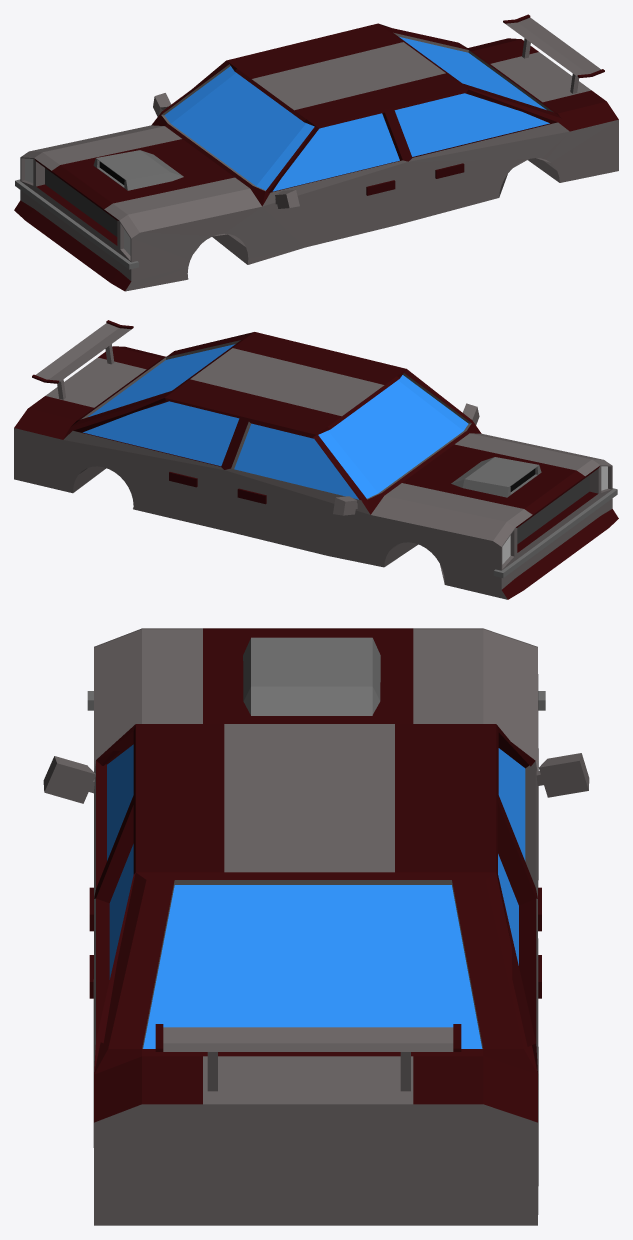
Rendered from car2.obj.
3 views of the same model, one above another, from view 1: azimuth 30°, elevation 25°; view 2: azimuth 150°, elevation 25°; view 3: azimuth 270°, elevation 25° (orthographic). The views are drawn at different scales.
Parts seen in each view (by area): view 1: Cube, Cube.009, Plane.001, Cube.001, Cube.008; view 2: Cube, Cube.009, Plane.001, Cube.001, Cube.010; view 3: Cube, Cube.009, Plane.001, Cube.010, Cube.008.
Boxes of the visible parts, box(x1,y1,x2,y2) form: Cube: box(14, 23, 618, 291); Cube.009: box(93, 150, 183, 190); Plane.001: box(503, 14, 604, 78); Cube.001: box(15, 179, 138, 269); Cube.008: box(275, 189, 299, 208); Cube: box(14, 332, 618, 599); Cube.009: box(451, 457, 541, 497); Plane.001: box(32, 320, 133, 383); Cube.001: box(493, 488, 617, 577); Cube.010: box(333, 496, 357, 515); Cube: box(93, 628, 538, 1225); Cube.009: box(243, 637, 380, 715); Plane.001: box(155, 1024, 461, 1051); Cube.010: box(536, 753, 589, 797); Cube.008: box(43, 756, 95, 803).
Bounding box in the file's own units: 6.5 × 1.4 × 3.09.
